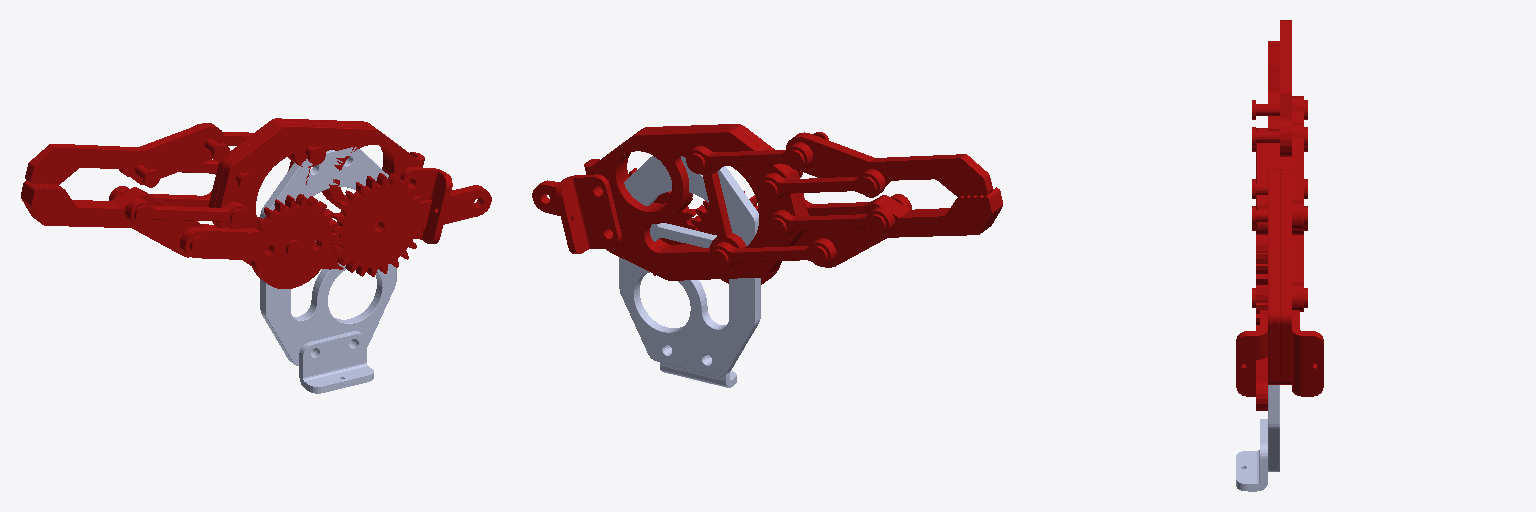
URDF robot description (test1):
<?xml version="1.0" encoding="utf-8"?>
<!-- This URDF was automatically created by SolidWorks to URDF Exporter! Originally created by [author] ([email redacted]) 
     Commit Version: 1.5.1-0-g916b5db  Build Version: 1.5.7152.31018
     For more information, please see http://wiki.ros.org/sw_urdf_exporter -->
<robot
  name="test1">
  <link
    name="gripper_base">
    <inertial>
      <origin
        xyz="-0.000423874658945828 0.0270489334970193 0.00202069857196371"
        rpy="0 0 0" />
      <mass
        value="0.00483102003103807" />
      <inertia
        ixx="1.38411480569428E-06"
        ixy="-4.00945048304451E-08"
        ixz="8.40051548137571E-15"
        iyy="6.57287988539018E-07"
        iyz="2.96792348290991E-09"
        izz="2.02910792860384E-06" />
    </inertial>
    <visual>
      <origin
        xyz="0 0 0"
        rpy="0 0 0" />
      <geometry>
        <mesh
          filename="package://ros_pkg/meshes/gripper_base.STL" />
      </geometry>
      <material
        name="">
        <color
          rgba="0.792156862745098 0.819607843137255 0.933333333333333 1" />
      </material>
    </visual>
    <collision>
      <origin
        xyz="0 0 0"
        rpy="0 0 0" />
      <geometry>
        <mesh
          filename="package://ros_pkg/meshes/gripper_base.STL" />
      </geometry>
    </collision>
  </link>
  <link
    name="gripper_right">
    <inertial>
      <origin
        xyz="-0.000842488154093744 -0.000545086713966858 0.00671657775552347"
        rpy="0 0 0" />
      <mass
        value="0.00596550984411769" />
      <inertia
        ixx="9.56112856867455E-07"
        ixy="-8.00038194119441E-24"
        ixz="1.1850645522899E-23"
        iyy="4.3542962722469E-07"
        iyz="-6.10657951894426E-08"
        izz="5.87032139202806E-07" />
    </inertial>
    <visual>
      <origin
        xyz="0 0 0"
        rpy="0 0 0" />
      <geometry>
        <mesh
          filename="package://ros_pkg/meshes/gripper_right.STL" />
      </geometry>
      <material
        name="">
        <color
          rgba="0.694117647058824 0.0941176470588235 0.0941176470588235 1" />
      </material>
    </visual>
    <collision>
      <origin
        xyz="0 0 0"
        rpy="0 0 0" />
      <geometry>
        <mesh
          filename="package://ros_pkg/meshes/gripper_right.STL" />
      </geometry>
    </collision>
  </link>
  <joint
    name="right_gripper_joint"
    type="continuous">
    <origin
      xyz="0.0135 -0.003 0.0376"
      rpy="-1.5708 0 -1.5708" />
    <parent
      link="gripper_base" />
    <child
      link="gripper_right" />
    <axis
      xyz="0 0 -1" />
    <mimic
      joint="left_gripper_joint"
      multiplier="1"
      offset="0" />
  </joint>
  <link
    name="left_gripper">
    <inertial>
      <origin
        xyz="-0.00335779506191281 0.00954082127590098 -0.0149211200996908"
        rpy="0 0 0" />
      <mass
        value="0.00383024372678011" />
      <inertia
        ixx="8.70244848187856E-07"
        ixy="-3.77745894951075E-24"
        ixz="8.71945090905762E-24"
        iyy="3.44915239672093E-07"
        iyz="-4.54463073030249E-08"
        izz="5.3107212519676E-07" />
    </inertial>
    <visual>
      <origin
        xyz="0 0 0"
        rpy="0 0 0" />
      <geometry>
        <mesh
          filename="package://ros_pkg/meshes/left_gripper.STL" />
      </geometry>
      <material
        name="">
        <color
          rgba="0.694117647058824 0.0941176470588235 0.0941176470588235 1" />
      </material>
    </visual>
    <collision>
      <origin
        xyz="0 0 0"
        rpy="0 0 0" />
      <geometry>
        <mesh
          filename="package://ros_pkg/meshes/left_gripper.STL" />
      </geometry>
    </collision>
  </link>
  <joint
    name="left_gripper_joint"
    type="continuous">
    <origin
      xyz="-0.0134999999999999 0 0.037599715906798"
      rpy="1.70169602069447 0 1.5707963267949" />
    <parent
      link="gripper_base" />
    <child
      link="left_gripper" />
    <axis
      xyz="1 0 0" />
    <limit
      lower="1.7017"
      upper="3.0107"
      effort="1000"
      velocity="1" />
  </joint>
</robot>

--- Facts derived from the render (not from the file) ---
The picture shows the robot from 3 angles, left to right: view 1: azimuth 30°, elevation 25°; view 2: azimuth 150°, elevation 25°; view 3: azimuth 270°, elevation 25°; orthographic projection.
Robot: test1 — 3 links, 2 joints (2 continuous); root link gripper_base; default pose: every joint at zero.
Links seen in each view (by area): view 1: left_gripper, gripper_base, gripper_right; view 2: left_gripper, gripper_base, gripper_right; view 3: left_gripper, gripper_base, gripper_right.
Boxes of the visible links, box(x1,y1,x2,y2) form: left_gripper: box(21, 118, 452, 288); gripper_base: box(260, 147, 396, 393); gripper_right: box(332, 173, 491, 276); left_gripper: box(556, 124, 1002, 284); gripper_base: box(619, 156, 760, 387); gripper_right: box(532, 168, 697, 275); left_gripper: box(1236, 20, 1323, 396); gripper_base: box(1236, 385, 1279, 491); gripper_right: box(1256, 285, 1267, 410).
Bounding box of the posed robot: 0.1422 × 0.022 × 0.087 m (x, y, z).
3 mesh visuals loaded from 3 distinct referenced files (3 binary STL).